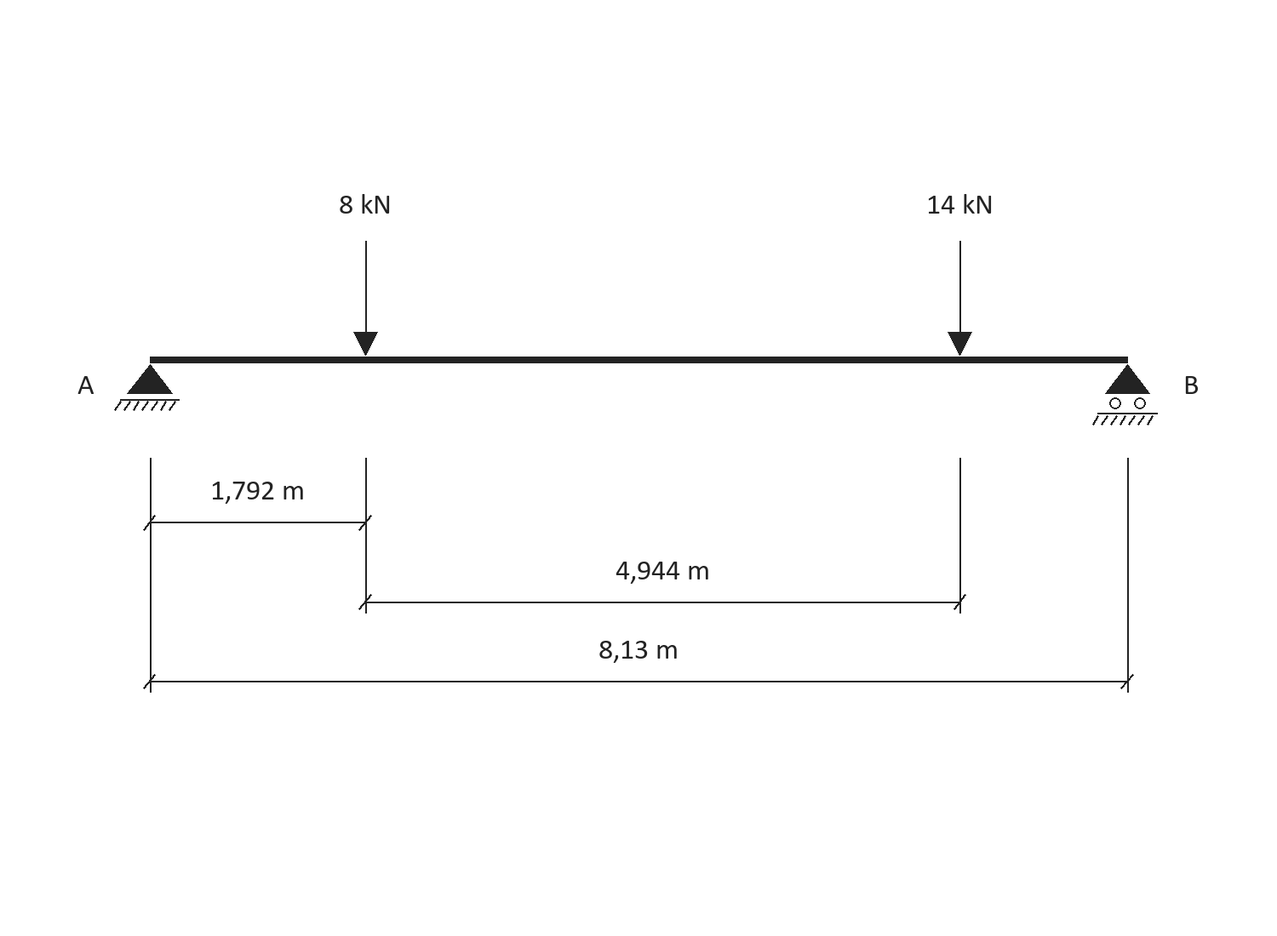pin_support: (114, 364, 180, 411)
point_load: (353, 241, 378, 356), (948, 241, 972, 356)
roller_support: (1092, 364, 1158, 425)
